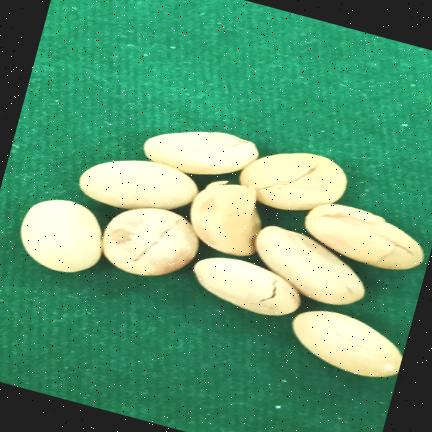parchment: (298, 202, 427, 272), (251, 227, 364, 304), (293, 311, 401, 376), (18, 196, 104, 273), (191, 256, 299, 316), (102, 208, 198, 275), (101, 208, 195, 276), (75, 158, 198, 209), (239, 154, 347, 210), (189, 177, 261, 254), (139, 131, 259, 176)
